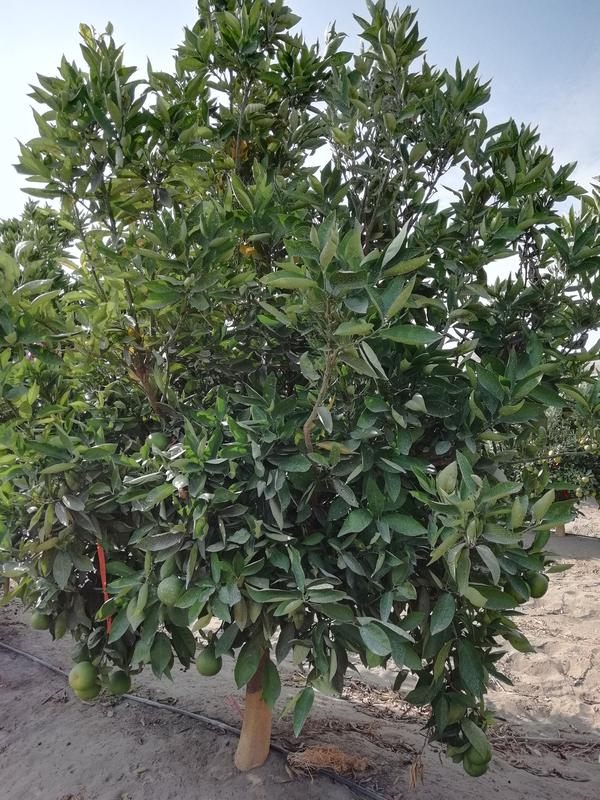mandarina verde: (67, 661, 97, 691), (157, 576, 183, 605), (195, 650, 222, 676), (109, 669, 131, 696), (529, 572, 548, 598), (30, 613, 50, 631)
